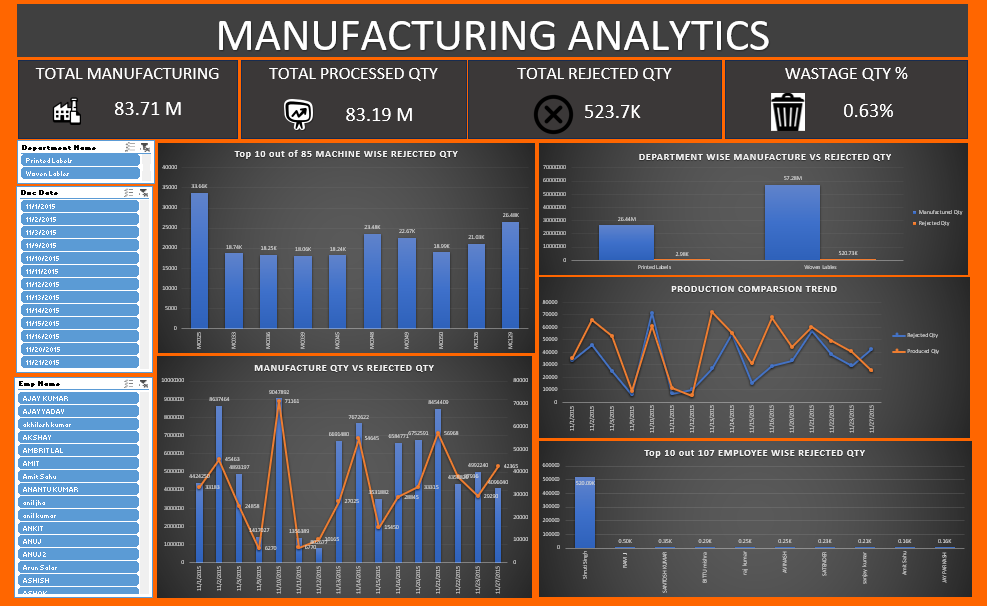

This screenshot's page, from the dashboard's own definition file:
{"tool":"powerbi","page":{"name":"Page 1","canvas":[1280,720],"ordinal":0},"visuals":[{"type":"shape","box":[11.4,228.6,428.6,242.9],"z":0},{"type":"shape","box":[455.7,481.4,425.7,238.6],"z":1000},{"type":"shape","box":[458.6,227.1,422.9,244.3],"z":2000},{"type":"lineClusteredColumnComboChart","title":"Manufacture Vs Rejected Qty","fields":{"Y2":["Sum(PROD DATA.Rejected Qty)"],"Y":["Sum(PROD DATA.Manufactured Qty)"],"Category":["PROD DATA.Doc Date.Variation.Date Hierarchy.Month","PROD DATA.Doc Date.Variation.Date Hierarchy.Day"]},"box":[11.4,247.1,428.6,207.1],"z":3000},{"type":"clusteredColumnChart","title":"Machine Vs Rejected Qty","fields":{"Category":["PROD DATA.Machine Code"],"Y":["Sum(PROD DATA.Rejected Qty)"]},"box":[457.1,520,425.7,197.1],"z":4000},{"type":"clusteredColumnChart","title":"Department Wise Manufactured Vs Rejected","fields":{"Category":["PROD DATA.Department Name"],"Y":["Sum(PROD DATA.Manufactured Qty)","Sum(PROD DATA.Rejected Qty)"]},"box":[461.4,247.1,420,224.3],"z":5000},{"type":"shape","box":[11.4,481.4,428.6,238.6],"z":6000},{"type":"lineChart","title":"Production Comparison Trend","fields":{"Category":["PROD DATA.Doc Date.Variation.Date Hierarchy.Year","PROD DATA.Doc Date.Variation.Date Hierarchy.Quarter","PROD DATA.Doc Date.Variation.Date Hierarchy.Month","PROD DATA.Doc Date.Variation.Date Hierarchy.Day"],"Y":["Sum(PROD DATA.Rejected Qty)","Sum(PROD DATA.Produced Qty)"]},"box":[22.9,520,400,185.7],"z":7000},{"type":"slicer","fields":{"Values":["PROD DATA.Emp Name"]},"box":[927.7,470.3,300.1,203.4],"z":8000},{"type":"shape","box":[9.7,0,1270.4,107.4],"z":9000},{"type":"shape","box":[10.9,120.6,232.9,94.3],"z":9000,"group":"g2"},{"type":"shape","box":[264.2,121.9,232.9,94.3],"z":9000,"group":"g1"},{"type":"shape","box":[529.6,121.9,232.9,94.3],"z":9000,"group":"g3"},{"type":"shape","box":[921.9,180.3,305.9,265.5],"z":10000},{"type":"card","fields":{"Values":["Sum(PROD DATA.Manufactured Qty)"]},"box":[36.6,146.3,187.1,68.6],"z":11000,"group":"g2"},{"type":"card","fields":{"Values":["Sum(PROD DATA.Rejected Qty)"]},"box":[289.9,147.6,187.1,68.6],"z":11000,"group":"g1"},{"type":"card","fields":{"Values":["Sum(PROD DATA.Wastage QTY)"]},"box":[555.3,147.6,187.1,68.6],"z":11000,"group":"g3"},{"type":"textbox","box":[108.6,228.6,211.4,27.1],"z":11000},{"type":"textbox","box":[514.3,227.1,352.9,27.1],"z":12000},{"type":"textbox","box":[49.3,132.8,182.2,29],"z":13000,"group":"g2"},{"type":"textbox","box":[328.5,133.3,148.6,28.6],"z":13000,"group":"g1"},{"type":"textbox","box":[593.9,133.3,148.6,28.6],"z":13000,"group":"g3"},{"type":"textbox","box":[124.3,492.9,180,27.1],"z":13000},{"type":"textbox","box":[564.3,492.9,210,27.1],"z":14000},{"type":"group","id":"g1","title":"Group 1","box":[264.2,121.9,232.8,94.1],"z":15000},{"type":"group","id":"g2","title":"Group 1","box":[10.9,120.6,232.8,94.1],"z":16000},{"type":"group","id":"g3","title":"Group 1","box":[529.6,121.9,232.8,94.1],"z":17000},{"type":"textbox","box":[380.9,26,546.8,54.8],"z":17001}]}

Visuals, with their boxes on the page's 1280x720 design canvas (x1, y1, x2, y2). These are canvas units, not pixel positions in the 987x606 screenshot, which may show the page scaled, cropped or inside an application window:
shape: {"left": 11, "top": 229, "right": 440, "bottom": 472}
shape: {"left": 456, "top": 481, "right": 881, "bottom": 720}
shape: {"left": 459, "top": 227, "right": 882, "bottom": 471}
"Manufacture Vs Rejected Qty" lineClusteredColumnComboChart: {"left": 11, "top": 247, "right": 440, "bottom": 454}
"Machine Vs Rejected Qty" clusteredColumnChart: {"left": 457, "top": 520, "right": 883, "bottom": 717}
"Department Wise Manufactured Vs Rejected" clusteredColumnChart: {"left": 461, "top": 247, "right": 881, "bottom": 471}
shape: {"left": 11, "top": 481, "right": 440, "bottom": 720}
"Production Comparison Trend" lineChart: {"left": 23, "top": 520, "right": 423, "bottom": 706}
slicer - PROD DATA.Emp Name: {"left": 928, "top": 470, "right": 1228, "bottom": 674}
shape: {"left": 10, "top": 0, "right": 1280, "bottom": 107}
shape: {"left": 11, "top": 121, "right": 244, "bottom": 215}
shape: {"left": 264, "top": 122, "right": 497, "bottom": 216}
shape: {"left": 530, "top": 122, "right": 762, "bottom": 216}
shape: {"left": 922, "top": 180, "right": 1228, "bottom": 446}
card - Sum(PROD DATA.Manufactured Qty): {"left": 37, "top": 146, "right": 224, "bottom": 215}
card - Sum(PROD DATA.Rejected Qty): {"left": 290, "top": 148, "right": 477, "bottom": 216}
card - Sum(PROD DATA.Wastage QTY): {"left": 555, "top": 148, "right": 742, "bottom": 216}
textbox: {"left": 109, "top": 229, "right": 320, "bottom": 256}
textbox: {"left": 514, "top": 227, "right": 867, "bottom": 254}
textbox: {"left": 49, "top": 133, "right": 232, "bottom": 162}
textbox: {"left": 328, "top": 133, "right": 477, "bottom": 162}
textbox: {"left": 594, "top": 133, "right": 742, "bottom": 162}
textbox: {"left": 124, "top": 493, "right": 304, "bottom": 520}
textbox: {"left": 564, "top": 493, "right": 774, "bottom": 520}
"Group 1" group: {"left": 264, "top": 122, "right": 497, "bottom": 216}
"Group 1" group: {"left": 11, "top": 121, "right": 244, "bottom": 215}
"Group 1" group: {"left": 530, "top": 122, "right": 762, "bottom": 216}
textbox: {"left": 381, "top": 26, "right": 928, "bottom": 81}
